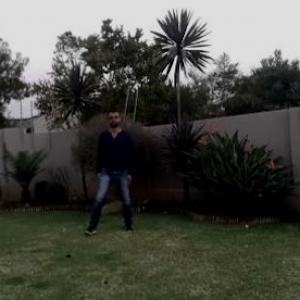follow: (97, 96, 137, 232)
